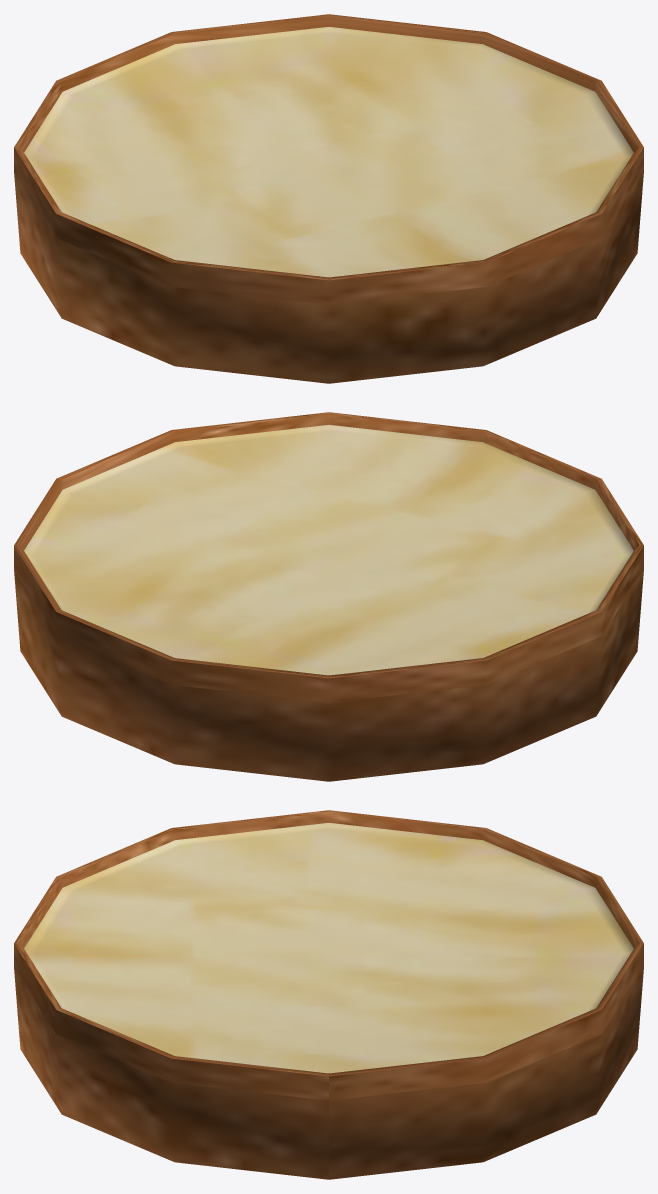
Rendered from SapphCheesecake_Ground.fbx.
The picture shows the model from 3 angles, top to bottom: view 1: azimuth 30°, elevation 25°; view 2: azimuth 150°, elevation 25°; view 3: azimuth 270°, elevation 25°; orthographic projection.
Visible parts, largest first — view 1: Cake001; view 2: Cake001; view 3: Cake001.
Part boxes in pixels (box(x1,y1,x2,y2)): Cake001: box(14, 14, 643, 383); Cake001: box(14, 412, 643, 781); Cake001: box(14, 810, 643, 1179).
Size of the model in its own units: 41.92 by 7.8 by 41.92.
